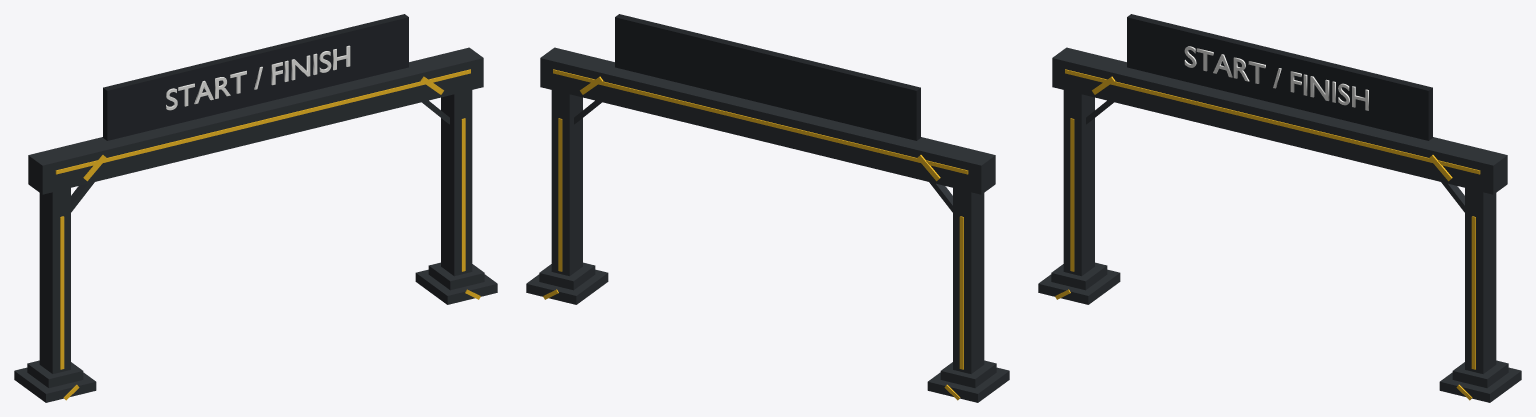
Rendered from StartFinishArch.glb.
The picture shows the model from 3 angles, left to right: view 1: azimuth 30°, elevation 25°; view 2: azimuth 150°, elevation 25°; view 3: azimuth 330°, elevation 25°; orthographic projection.
Visible parts, largest first — view 1: Gantry_MainBeam, Gantry_StartFinishSign, Gantry_Post_R, Gantry_Post_L, Gantry_StartFinishText, Gantry_YellowBeamStrip_Front, Gantry_BasePlate_R, Gantry_BasePlate_L, Gantry_BaseTop_R, Gantry_BaseTop_L, Gantry_YellowPostStrip_R_Front, Gantry_YellowPostStrip_L_Front; view 2: Gantry_StartFinishSign, Gantry_MainBeam, Gantry_Post_R, Gantry_Post_L, Gantry_YellowBeamStrip_Back, Gantry_BasePlate_R, Gantry_BasePlate_L, Gantry_BaseTop_R, Gantry_BaseTop_L, Gantry_YellowPostStrip_R_Back, Gantry_YellowPostStrip_L_Back; view 3: Gantry_MainBeam, Gantry_StartFinishSign, Gantry_Post_L, Gantry_Post_R, Gantry_StartFinishText, Gantry_YellowBeamStrip_Front, Gantry_BasePlate_L, Gantry_BasePlate_R, Gantry_BaseTop_L, Gantry_BaseTop_R, Gantry_YellowPostStrip_L_Front, Gantry_YellowPostStrip_R_Front.
Part boxes in pixels (x1,y1,x2,y2): Gantry_MainBeam: (28,47,483,194); Gantry_StartFinishSign: (103,14,408,140); Gantry_Post_R: (441,90,472,276); Gantry_Post_L: (39,188,70,373); Gantry_StartFinishText: (166,45,350,110); Gantry_YellowBeamStrip_Front: (55,69,470,174); Gantry_BasePlate_R: (415,269,497,304); Gantry_BasePlate_L: (14,367,96,402); Gantry_BaseTop_R: (428,262,484,290); Gantry_BaseTop_L: (27,360,83,387); Gantry_YellowPostStrip_R_Front: (461,118,465,271); Gantry_YellowPostStrip_L_Front: (60,216,64,369); Gantry_StartFinishSign: (615,14,920,140); Gantry_MainBeam: (540,47,995,194); Gantry_Post_R: (551,90,582,276); Gantry_Post_L: (953,188,984,373); Gantry_YellowBeamStrip_Back: (553,69,968,174); Gantry_BasePlate_R: (526,269,608,304); Gantry_BasePlate_L: (927,367,1009,402); Gantry_BaseTop_R: (539,262,595,290); Gantry_BaseTop_L: (940,360,996,387); Gantry_YellowPostStrip_R_Back: (558,118,562,271); Gantry_YellowPostStrip_L_Back: (959,216,963,369); Gantry_MainBeam: (1052,47,1507,194); Gantry_StartFinishSign: (1127,14,1432,140); Gantry_Post_L: (1063,90,1094,276); Gantry_Post_R: (1465,188,1496,373); Gantry_StartFinishText: (1184,46,1368,110); Gantry_YellowBeamStrip_Front: (1065,69,1480,174); Gantry_BasePlate_L: (1038,269,1120,304); Gantry_BasePlate_R: (1439,367,1521,402); Gantry_BaseTop_L: (1051,262,1107,290); Gantry_BaseTop_R: (1452,360,1508,387); Gantry_YellowPostStrip_L_Front: (1070,118,1074,271); Gantry_YellowPostStrip_R_Front: (1471,216,1475,369).
Bounding box in the file's own units: 9.43 × 5.7 × 1.2.
